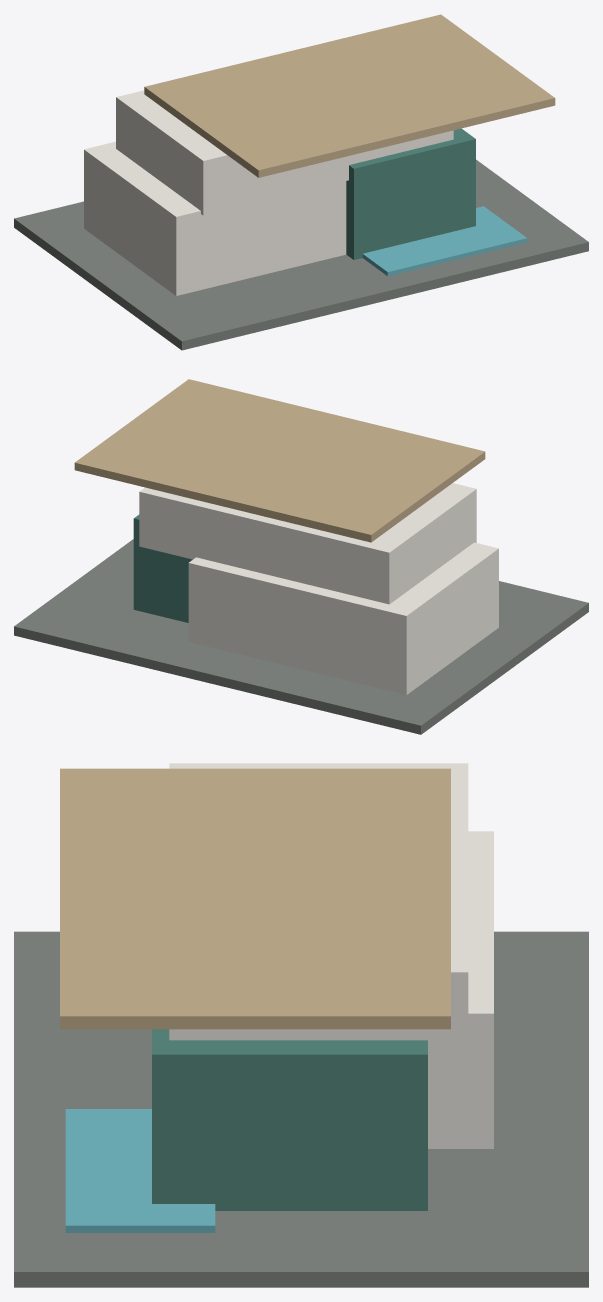
File: boulevard-park.glb
3 renders of one model, top to bottom at view 1: azimuth 30°, elevation 25°; view 2: azimuth 150°, elevation 25°; view 3: azimuth 270°, elevation 25°, orthographic. The views are drawn at different scales.
Visible parts, largest first — view 1: BronzeCanopy, Plinth, LowerWing, UpperPenthouse, AtriumGlass, RooftopPool; view 2: BronzeCanopy, Plinth, LowerWing, UpperPenthouse, AtriumGlass; view 3: BronzeCanopy, Plinth, AtriumGlass, RooftopPool, LowerWing, UpperPenthouse.
Boxes of the visible parts, bbox=[...] form: BronzeCanopy: bbox=[144, 14, 555, 177]; Plinth: bbox=[14, 159, 588, 350]; LowerWing: bbox=[84, 141, 346, 295]; UpperPenthouse: bbox=[116, 90, 453, 215]; AtriumGlass: bbox=[346, 128, 475, 259]; RooftopPool: bbox=[362, 206, 527, 276]; BronzeCanopy: bbox=[74, 379, 485, 542]; Plinth: bbox=[14, 539, 588, 734]; LowerWing: bbox=[188, 542, 498, 694]; UpperPenthouse: bbox=[139, 483, 476, 604]; AtriumGlass: bbox=[133, 514, 192, 622]; BronzeCanopy: bbox=[60, 768, 450, 1029]; Plinth: bbox=[14, 931, 588, 1287]; AtriumGlass: bbox=[152, 1029, 427, 1210]; RooftopPool: bbox=[65, 1109, 215, 1232]; LowerWing: bbox=[428, 831, 493, 1148]; UpperPenthouse: bbox=[169, 763, 468, 1066].
Bounding box in the file's own units: 14 × 4.88 × 10.
